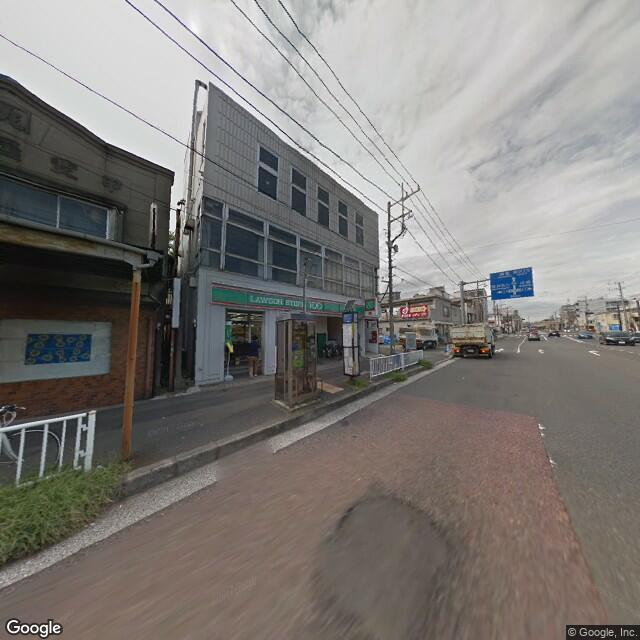lawson: (207, 282, 364, 318), (362, 295, 379, 315)
